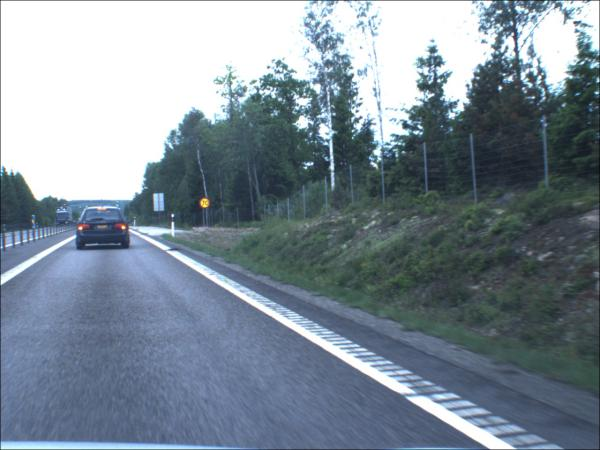70_SIGN: (201, 199, 213, 210)
